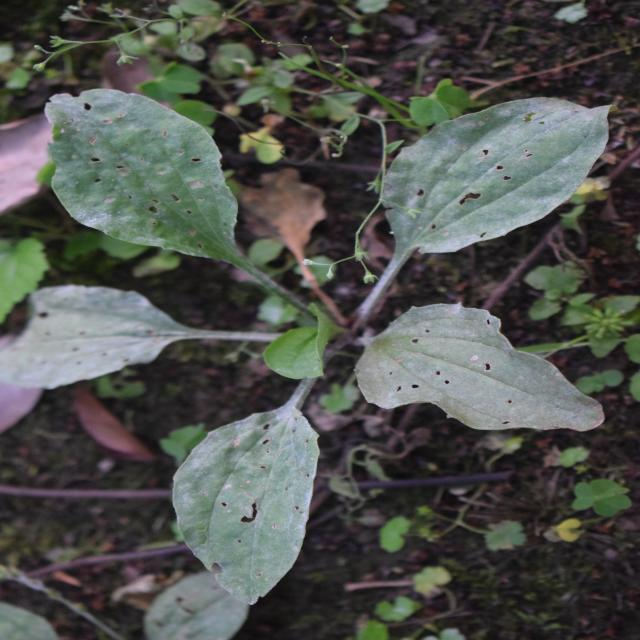plantain: (66, 52, 544, 581)
